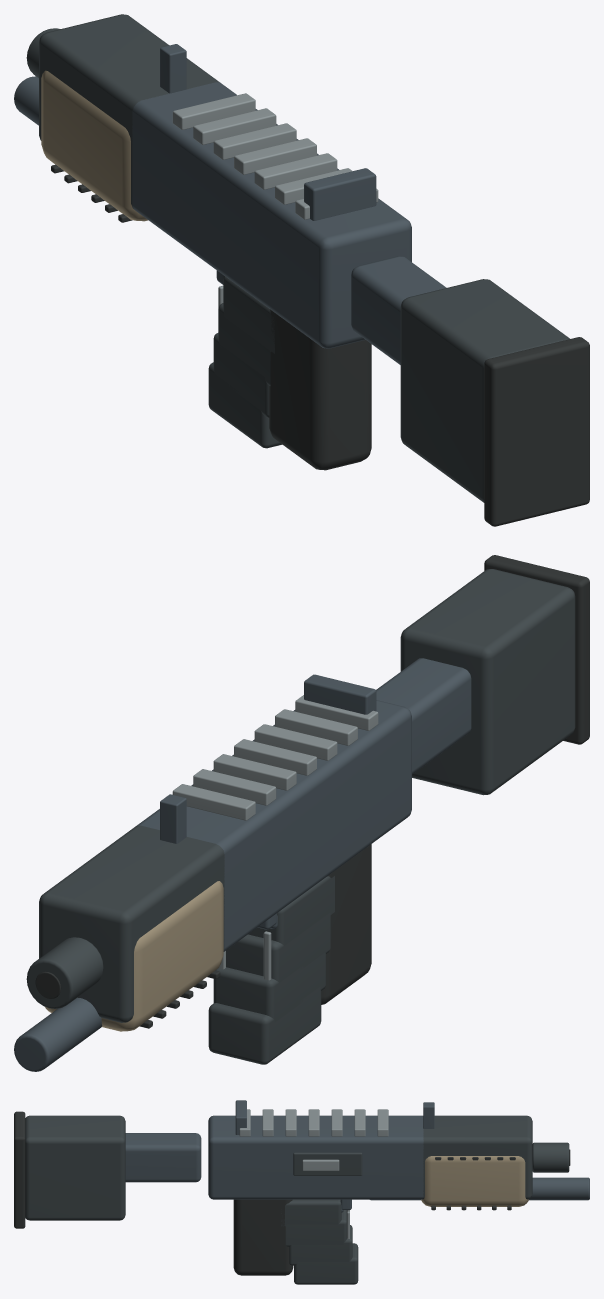
File: weapon-4.glb
The picture shows the model from 3 angles, top to bottom: view 1: azimuth 30°, elevation 25°; view 2: azimuth 150°, elevation 25°; view 3: azimuth 270°, elevation 25°; orthographic projection. The views are drawn at different scales.
Visible parts, largest first — view 1: Receiver, Adjustable stock, Shoulder pad, Trigger grip, Handguard, Pump, Stock spine, Rear sight, Magazine section.003, Magazine section, Magazine section.002, Magazine section.001 (+8 smaller); view 2: Adjustable stock, Receiver, Handguard, Pump, Stock spine, Trigger grip, Magazine section.003, Magazine section.002, Shoulder pad, Magazine tube, Magazine section.001, Muzzle brake (+10 smaller); view 3: Receiver, Adjustable stock, Pump, Handguard, Trigger grip, Stock spine, Magazine section.003, Magazine tube, Magazine section, Magazine section.001, Shoulder pad, Ejection port (+11 smaller).
Part boxes in pixels (x1,y1,x2,y2): Receiver: (132,82,411,348); Adjustable stock: (400,279,569,502); Shoulder pad: (484,337,589,526); Trigger grip: (269,309,371,470); Handguard: (39,14,219,208); Pump: (41,70,147,221); Stock spine: (351,256,446,364); Rear sight: (304,168,376,220); Magazine section.003: (208,362,281,448); Magazine section: (223,276,274,353); Magazine section.002: (213,333,269,417); Magazine section.001: (218,303,270,385); Adjustable stock: (400,569,575,795); Receiver: (137,700,411,951); Handguard: (39,825,224,1022); Pump: (45,881,223,1031); Stock spine: (376,658,471,774); Trigger grip: (321,844,371,1004); Magazine section.003: (208,987,321,1064); Magazine section.002: (213,952,325,1022); Shoulder pad: (484,555,589,744); Magazine tube: (14,997,102,1071); Magazine section.001: (226,913,330,982); Muzzle brake: (26,937,103,1008); Receiver: (208,1115,423,1199); Adjustable stock: (25,1115,125,1220); Pump: (421,1156,528,1206); Handguard: (423,1115,532,1199); Trigger grip: (233,1199,293,1275); Stock spine: (125,1133,201,1182); Magazine section.003: (294,1243,358,1284); Magazine tube: (370,1177,589,1200); Magazine section: (281,1199,341,1226); Magazine section.001: (285,1210,347,1246); Shoulder pad: (14,1111,25,1228); Ejection port: (293,1152,362,1175).
Size of the model in its own units: 0.146 by 0.415 by 1.25.
